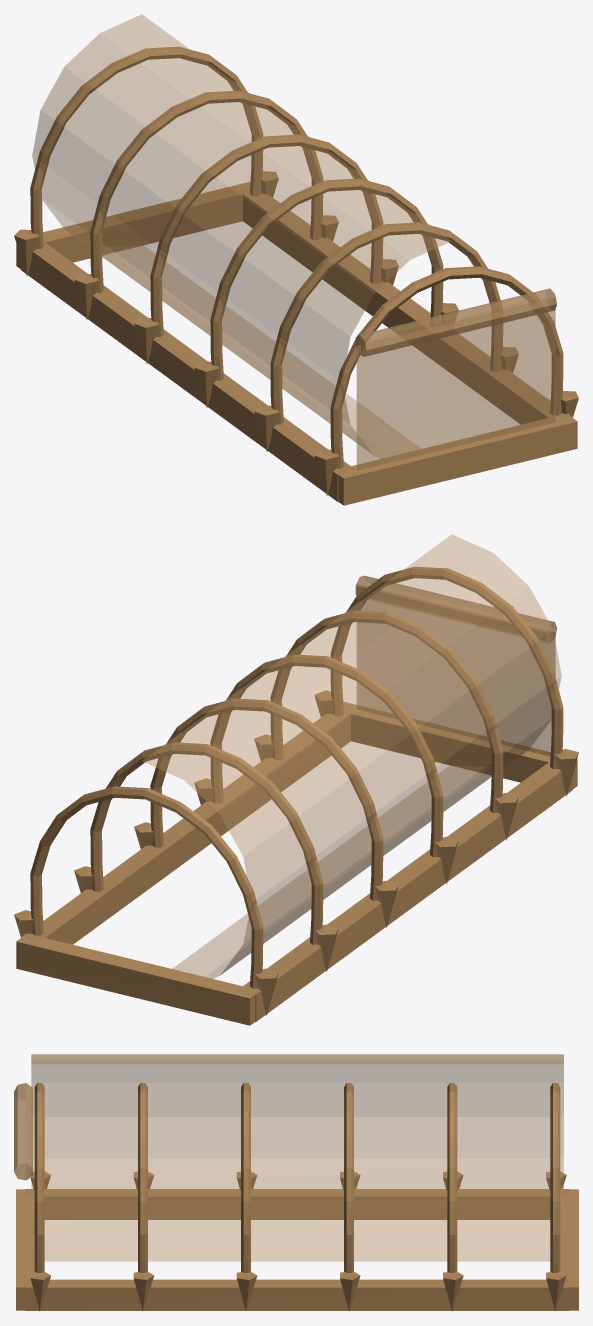
The model's file is Crop-Netting.glb.
3 views of the same model, one above another, from view 1: azimuth 30°, elevation 25°; view 2: azimuth 150°, elevation 25°; view 3: azimuth 270°, elevation 25° (orthographic). The views are drawn at different scales.
Visible parts, largest first — view 1: wind-pump-static-crop-netting-faceted-mesh, wind-pump-static-crop-netting-timber, wind-pump-static-crop-netting-hoops, wind-pump-static-crop-netting-flap; view 2: wind-pump-static-crop-netting-faceted-mesh, wind-pump-static-crop-netting-timber, wind-pump-static-crop-netting-hoops, wind-pump-static-crop-netting-flap; view 3: wind-pump-static-crop-netting-faceted-mesh, wind-pump-static-crop-netting-timber, wind-pump-static-crop-netting-hoops, wind-pump-static-crop-netting-flap.
Part boxes in pixels (box(x1,y1,x2,y2)): wind-pump-static-crop-netting-faceted-mesh: box(32, 14, 451, 458); wind-pump-static-crop-netting-timber: box(16, 182, 577, 505); wind-pump-static-crop-netting-hoops: box(14, 46, 578, 495); wind-pump-static-crop-netting-flap: box(355, 288, 557, 470); wind-pump-static-crop-netting-faceted-mesh: box(142, 534, 561, 978); wind-pump-static-crop-netting-timber: box(16, 702, 577, 1025); wind-pump-static-crop-netting-hoops: box(14, 566, 578, 1015); wind-pump-static-crop-netting-flap: box(355, 575, 557, 756); wind-pump-static-crop-netting-faceted-mesh: box(31, 1054, 563, 1261); wind-pump-static-crop-netting-timber: box(16, 1189, 578, 1310); wind-pump-static-crop-netting-hoops: box(30, 1083, 566, 1311); wind-pump-static-crop-netting-flap: box(14, 1083, 32, 1180).
Bounding box in the file's own units: 1.81 × 1.52 × 3.95.
